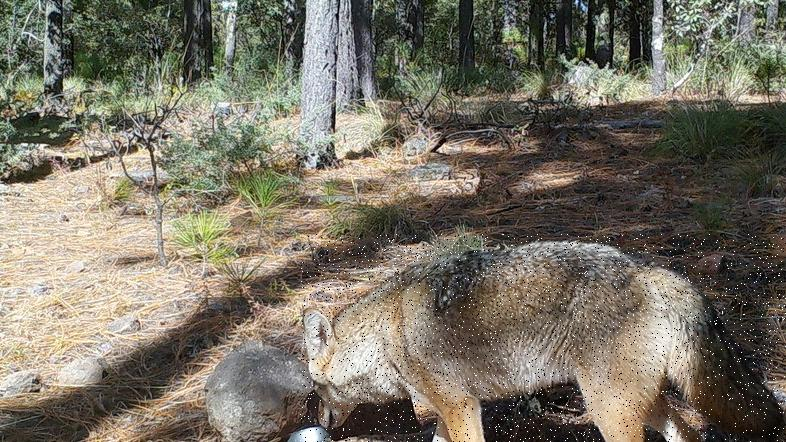Coyote: (300, 234, 786, 442)
